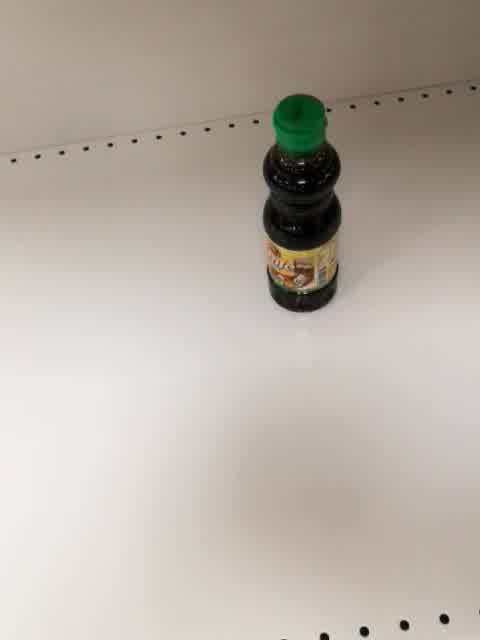cookingoil: (259, 92, 347, 314)
